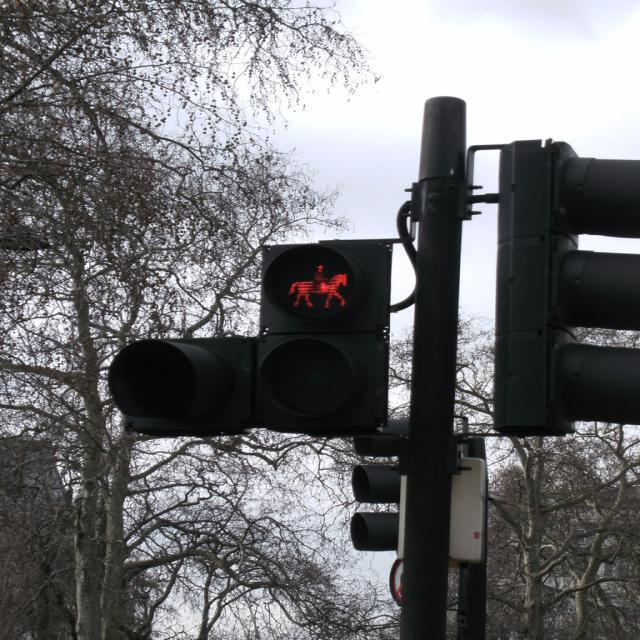off traffic light: (499, 134, 640, 428)
traffic light: (259, 243, 386, 427)
